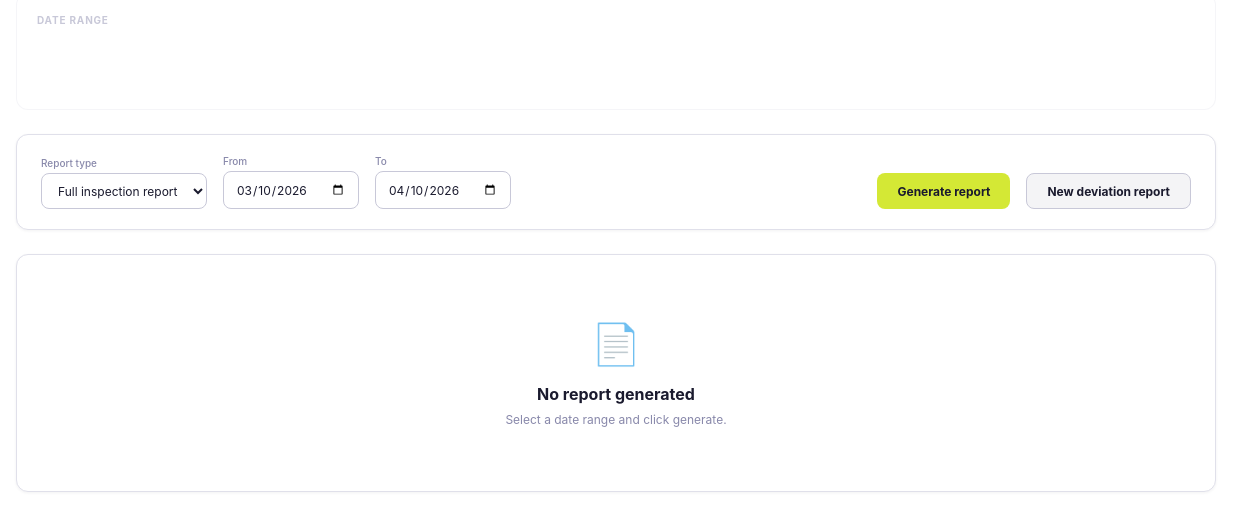
Test: ReportsView › loadReport — UI states › shows error state with message when the request fails
Click the button with class "btn-generate": (944, 191) [878,173,1010,209]
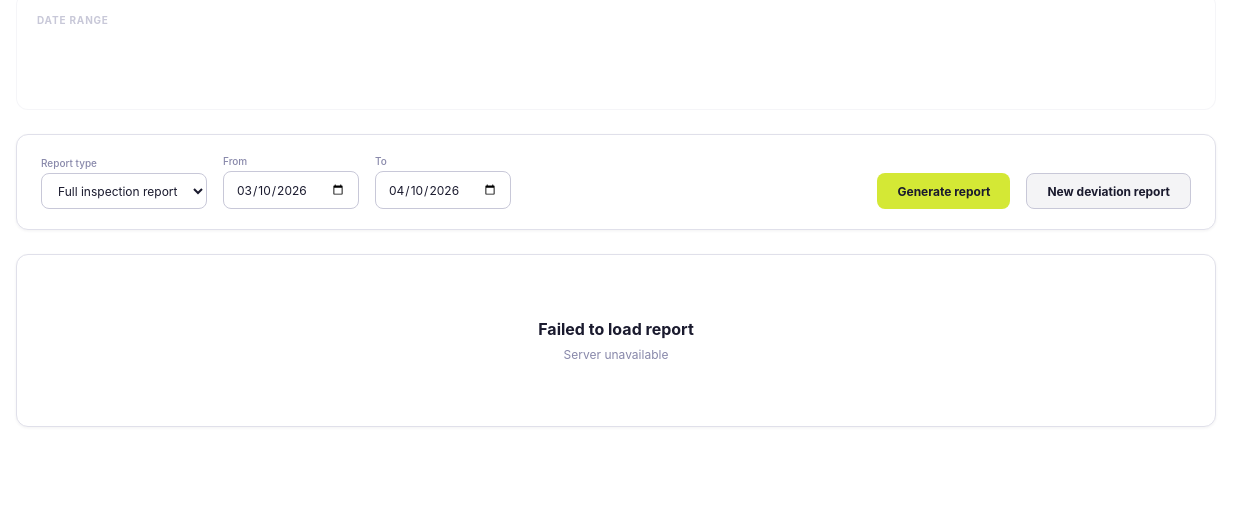
Check: the text "Failed to load report" is shown, box [538,319,694,339]
Check: the text "Server unavailable" is shown, box [564,347,668,362]
